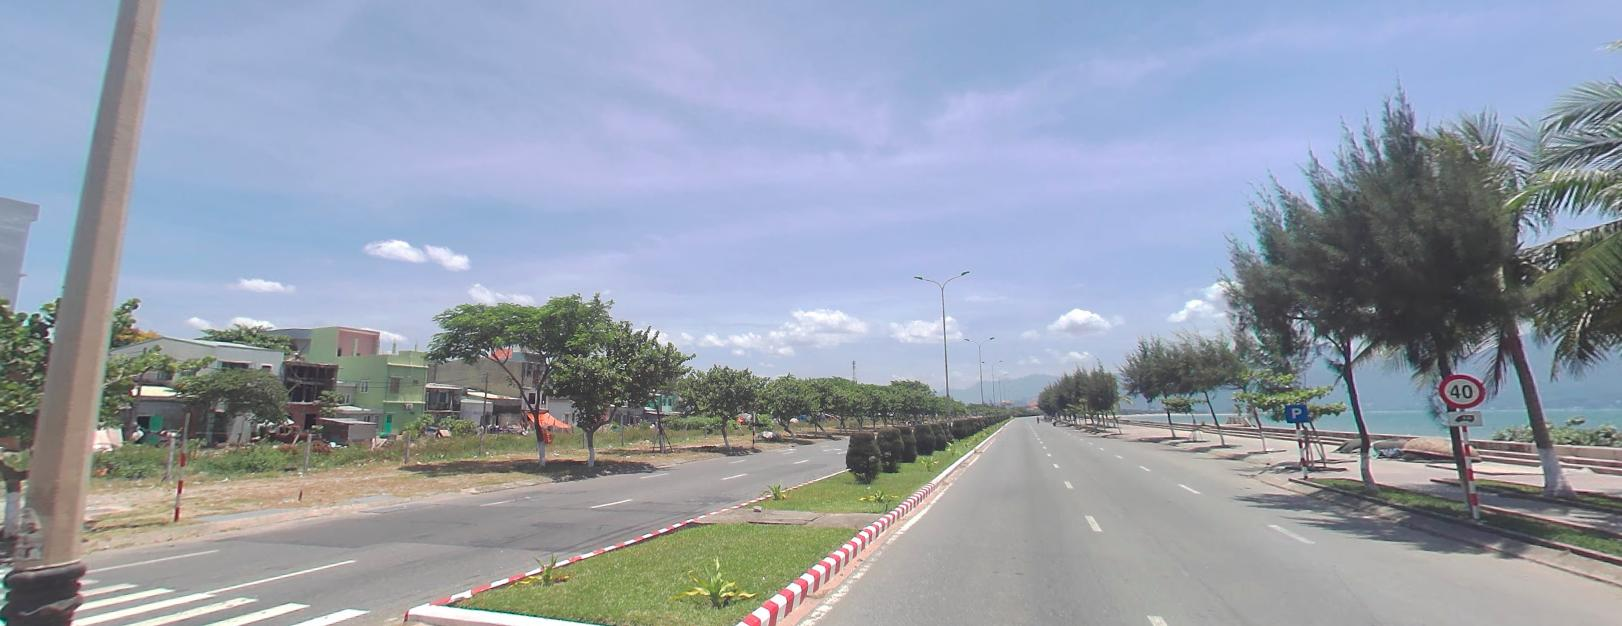Gioi han toc do: (1436, 369, 1484, 408)
